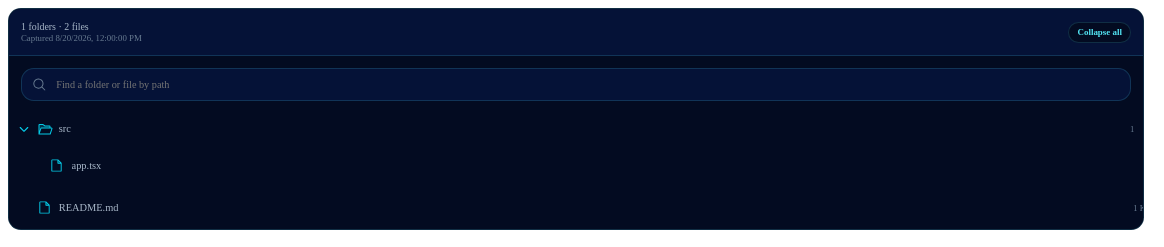
Test: WorkspaceTree › shows the first project level immediately and lets the user collapse it
Check: the text "1 folders · 2 files" is shown, box [21,21,89,32]
Check: the text "README.md" is shown, box [59,202,119,213]
Click the button "src 1".
click(24, 129)  # box [9,113,1143,145]
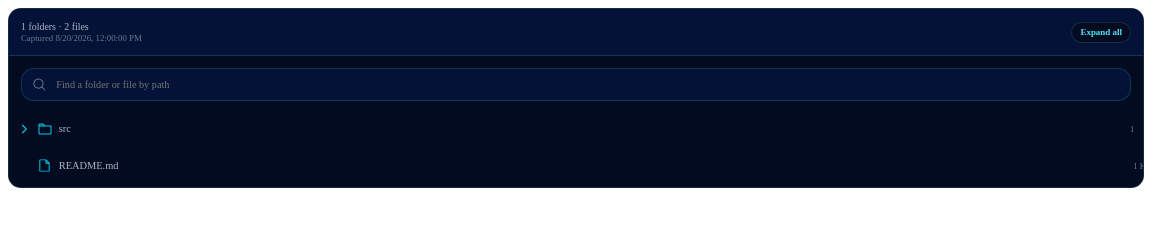
Check: the text "app.tsx" is gone
